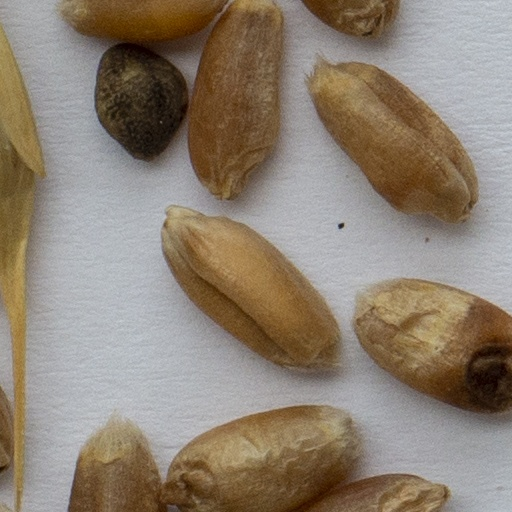Peel-poly: (0, 33, 43, 510)
